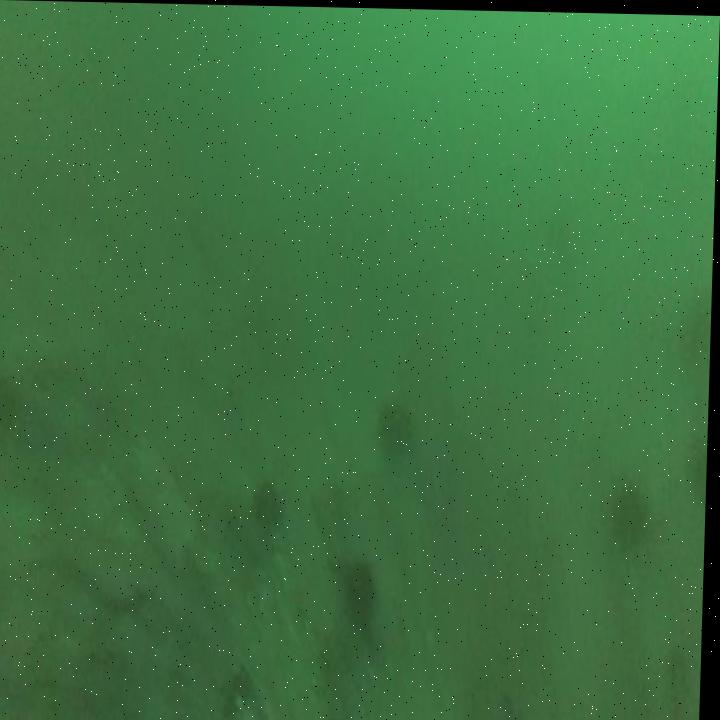echinus: (610, 473, 653, 563), (374, 392, 416, 468), (343, 550, 380, 636), (251, 463, 287, 537)
